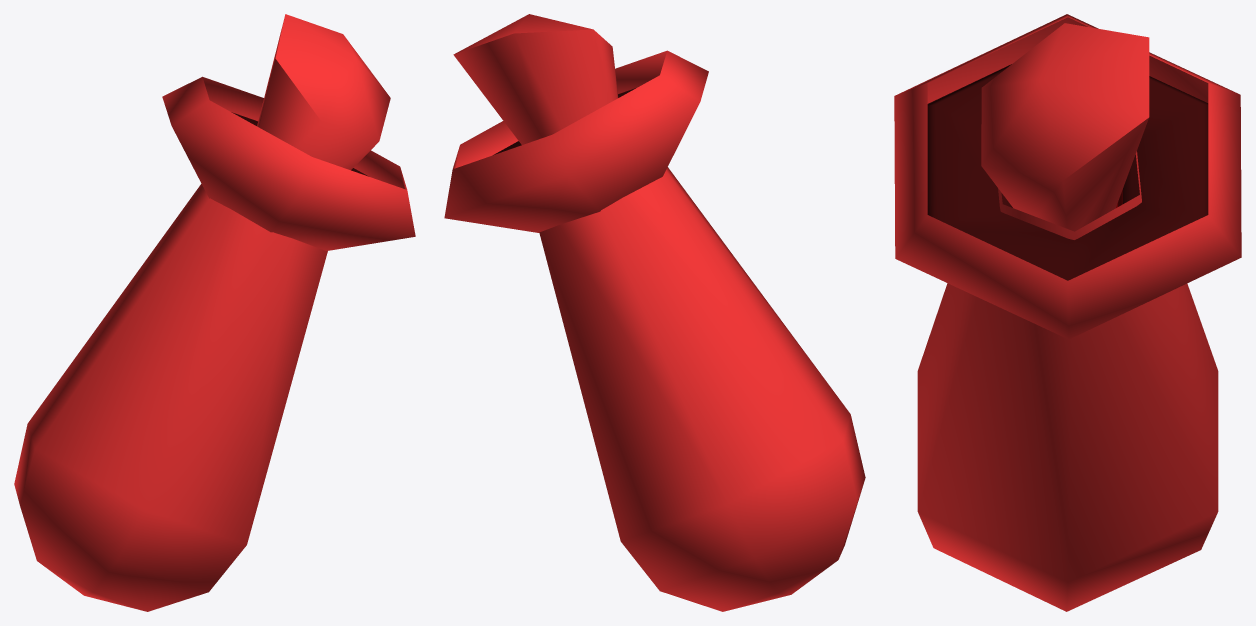
The model's file is ANTIDOTE_POTION.fbx.
3 renders of one model, left to right at view 1: azimuth 30°, elevation 25°; view 2: azimuth 150°, elevation 25°; view 3: azimuth 270°, elevation 25°, orthographic. The views are drawn at different scales.
Parts seen in each view (by area): view 1: ANTIDOTE_POTION; view 2: ANTIDOTE_POTION; view 3: ANTIDOTE_POTION.
Part boxes in pixels (box(x1,y1,x2,y2)): ANTIDOTE_POTION: box(14, 14, 415, 611); ANTIDOTE_POTION: box(444, 14, 865, 611); ANTIDOTE_POTION: box(894, 14, 1241, 611).
Bounding box in the file's own units: 3033 × 3901 × 1845.
